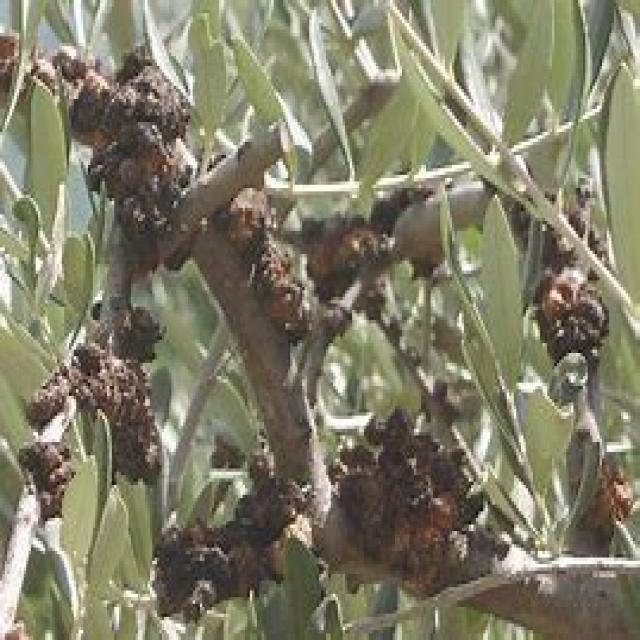Tuberculosis: (326, 406, 495, 594), (54, 44, 190, 267), (157, 468, 309, 616), (26, 336, 157, 476), (216, 188, 306, 340), (533, 234, 597, 366), (304, 215, 386, 296), (19, 445, 69, 518), (580, 456, 630, 528), (122, 301, 168, 362)
